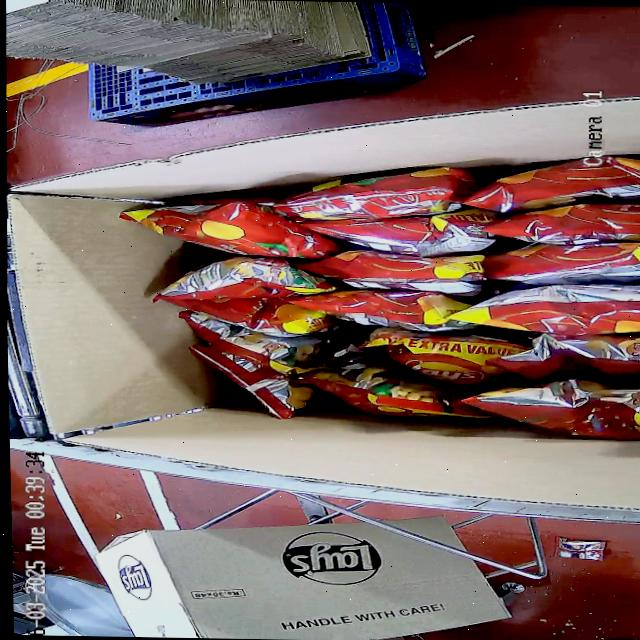MASALA: (112, 145, 640, 438)
